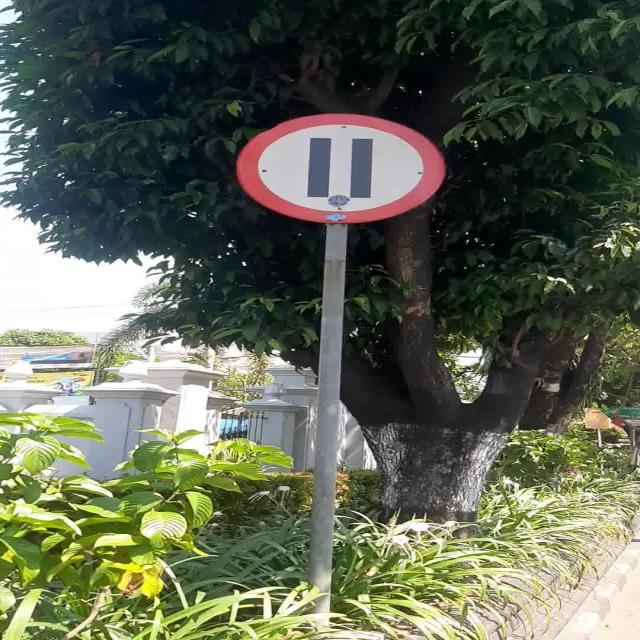Larangan Muatan - 10 ton: (237, 114, 446, 222)
